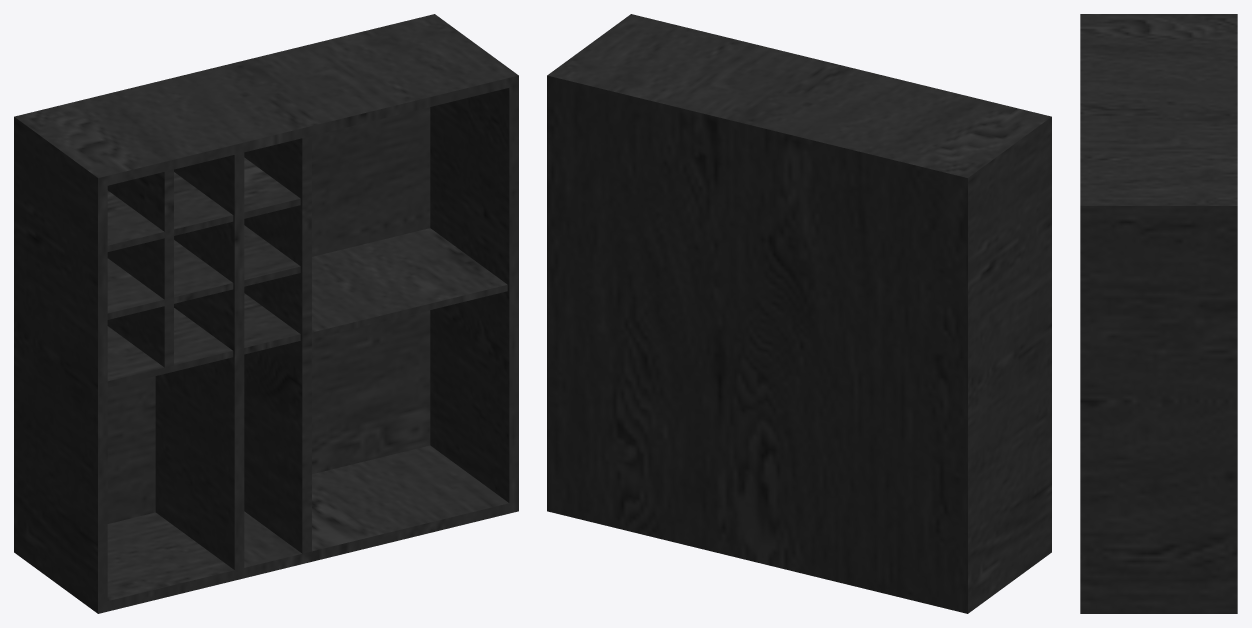
File: Closet10.fbx
The picture shows the model from 3 angles, left to right: view 1: azimuth 30°, elevation 25°; view 2: azimuth 150°, elevation 25°; view 3: azimuth 270°, elevation 25°; orthographic projection. The views are drawn at different scales.
Parts seen in each view (by area): view 1: Closet10; view 2: Closet10; view 3: Closet10.
Boxes of the visible parts, <box> form: Closet10: <box>14,14,518,613</box>; Closet10: <box>547,14,1051,613</box>; Closet10: <box>1080,14,1237,613</box>.
Bounding box in the file's own units: 257 × 254 × 88.93.
